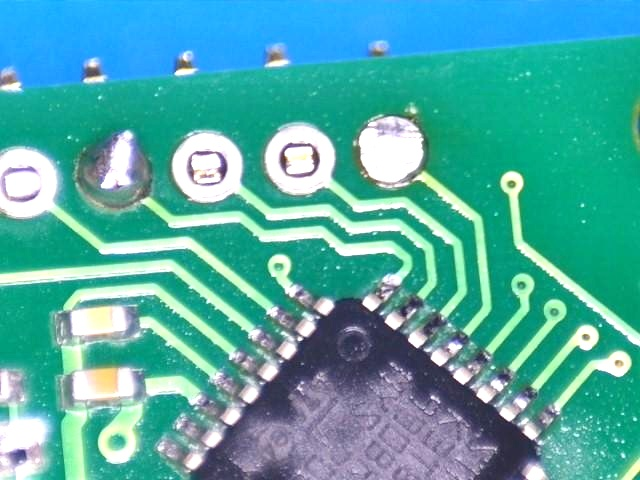pcb_defect: (80, 130, 150, 206)
